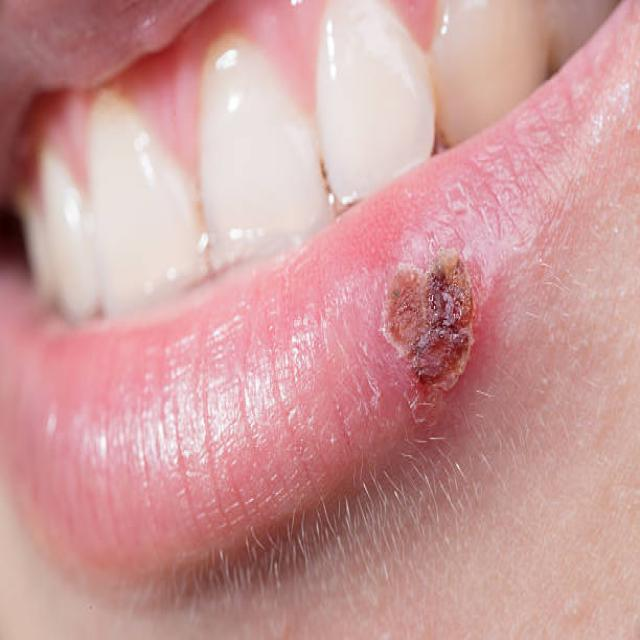processing_area: (6, 0, 639, 578)
ulcer-detection: (364, 206, 504, 461)
